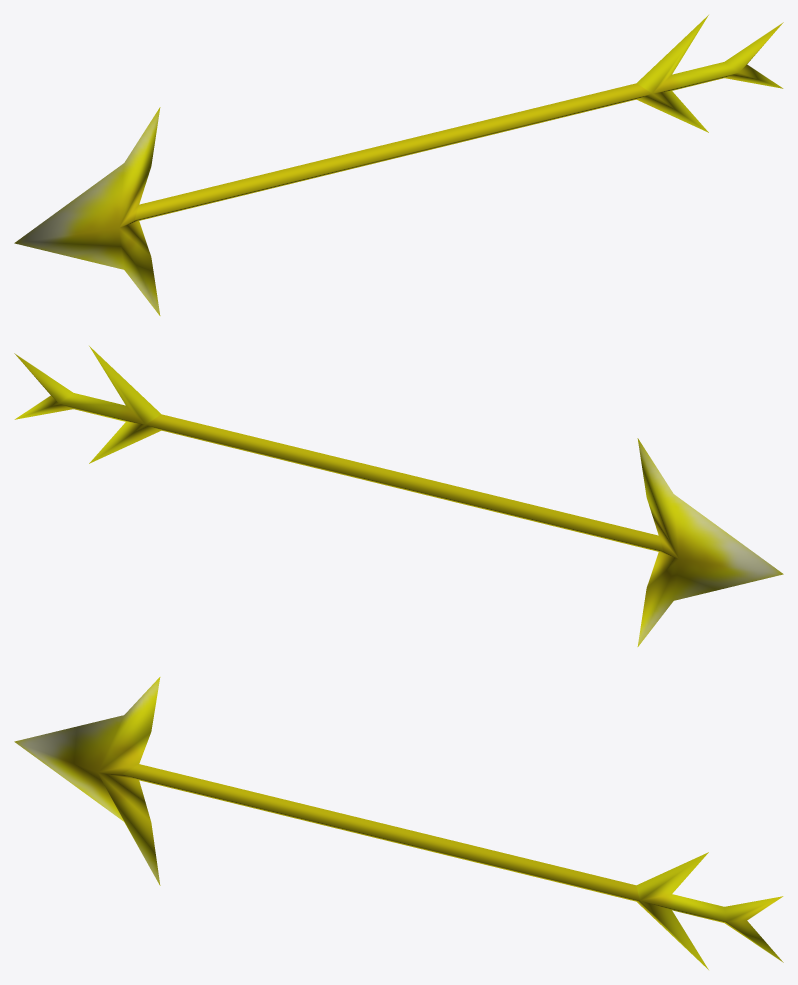
Rendered from championArrow.glb.
The picture shows the model from 3 angles, top to bottom: view 1: azimuth 30°, elevation 25°; view 2: azimuth 150°, elevation 25°; view 3: azimuth 330°, elevation 25°; orthographic projection.
Visible parts, largest first — view 1: championArrow; view 2: championArrow; view 3: championArrow.
Part boxes in pixels (x1=…): championArrow: x1=14, y1=15, x2=783, y2=315; championArrow: x1=14, y1=346, x2=783, y2=646; championArrow: x1=14, y1=677, x2=783, y2=969.
Bounding box in the file's own units: 1.01 × 0.2625 × 0.048.
1 material, 1 textured.
